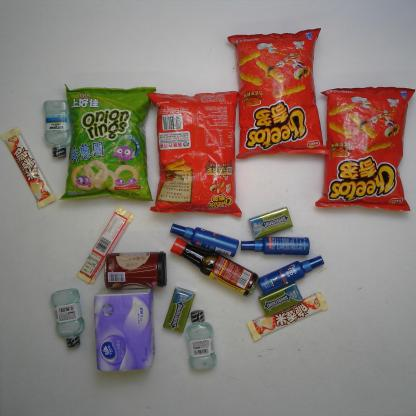Canned Food: (104, 252, 167, 289)
Chocolate: (76, 208, 134, 285), (2, 126, 55, 210), (246, 292, 328, 342)
Gum: (249, 206, 292, 240), (259, 284, 304, 316), (163, 288, 195, 333)
Personal Hygiene: (258, 256, 324, 296), (170, 223, 239, 257), (51, 288, 85, 347), (185, 310, 217, 370), (44, 100, 70, 158), (241, 236, 310, 254)
Puffed Food: (227, 27, 329, 159), (146, 91, 244, 217), (315, 87, 415, 210), (60, 84, 156, 203)
Seasoner: (170, 238, 259, 297)
Tissue: (92, 287, 156, 371)
